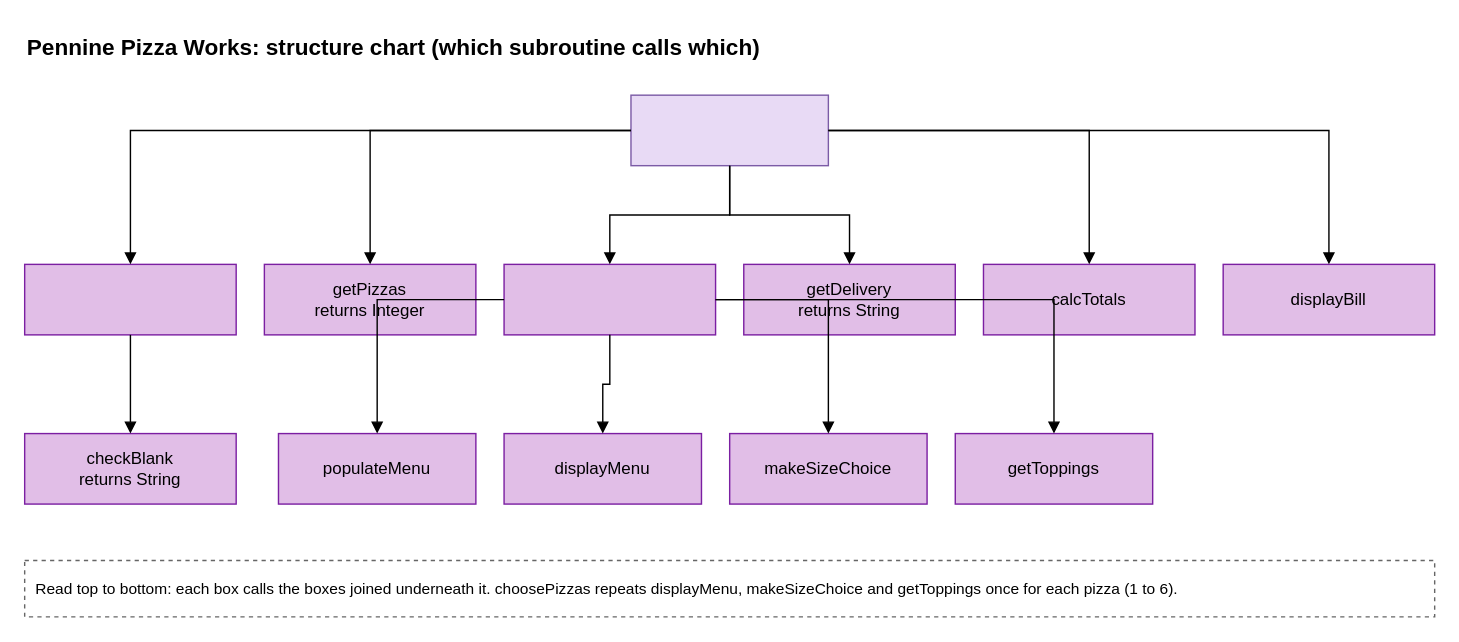
Some shapes in this 1459 by 642 pixel diagram are drawn without their labels. Each missing label, with the centre of its shape:
"choosePizzas" goes at (x=609, y=299).
"getCustomerDetails" goes at (x=129, y=299).
"Main" goes at (x=729, y=130).
